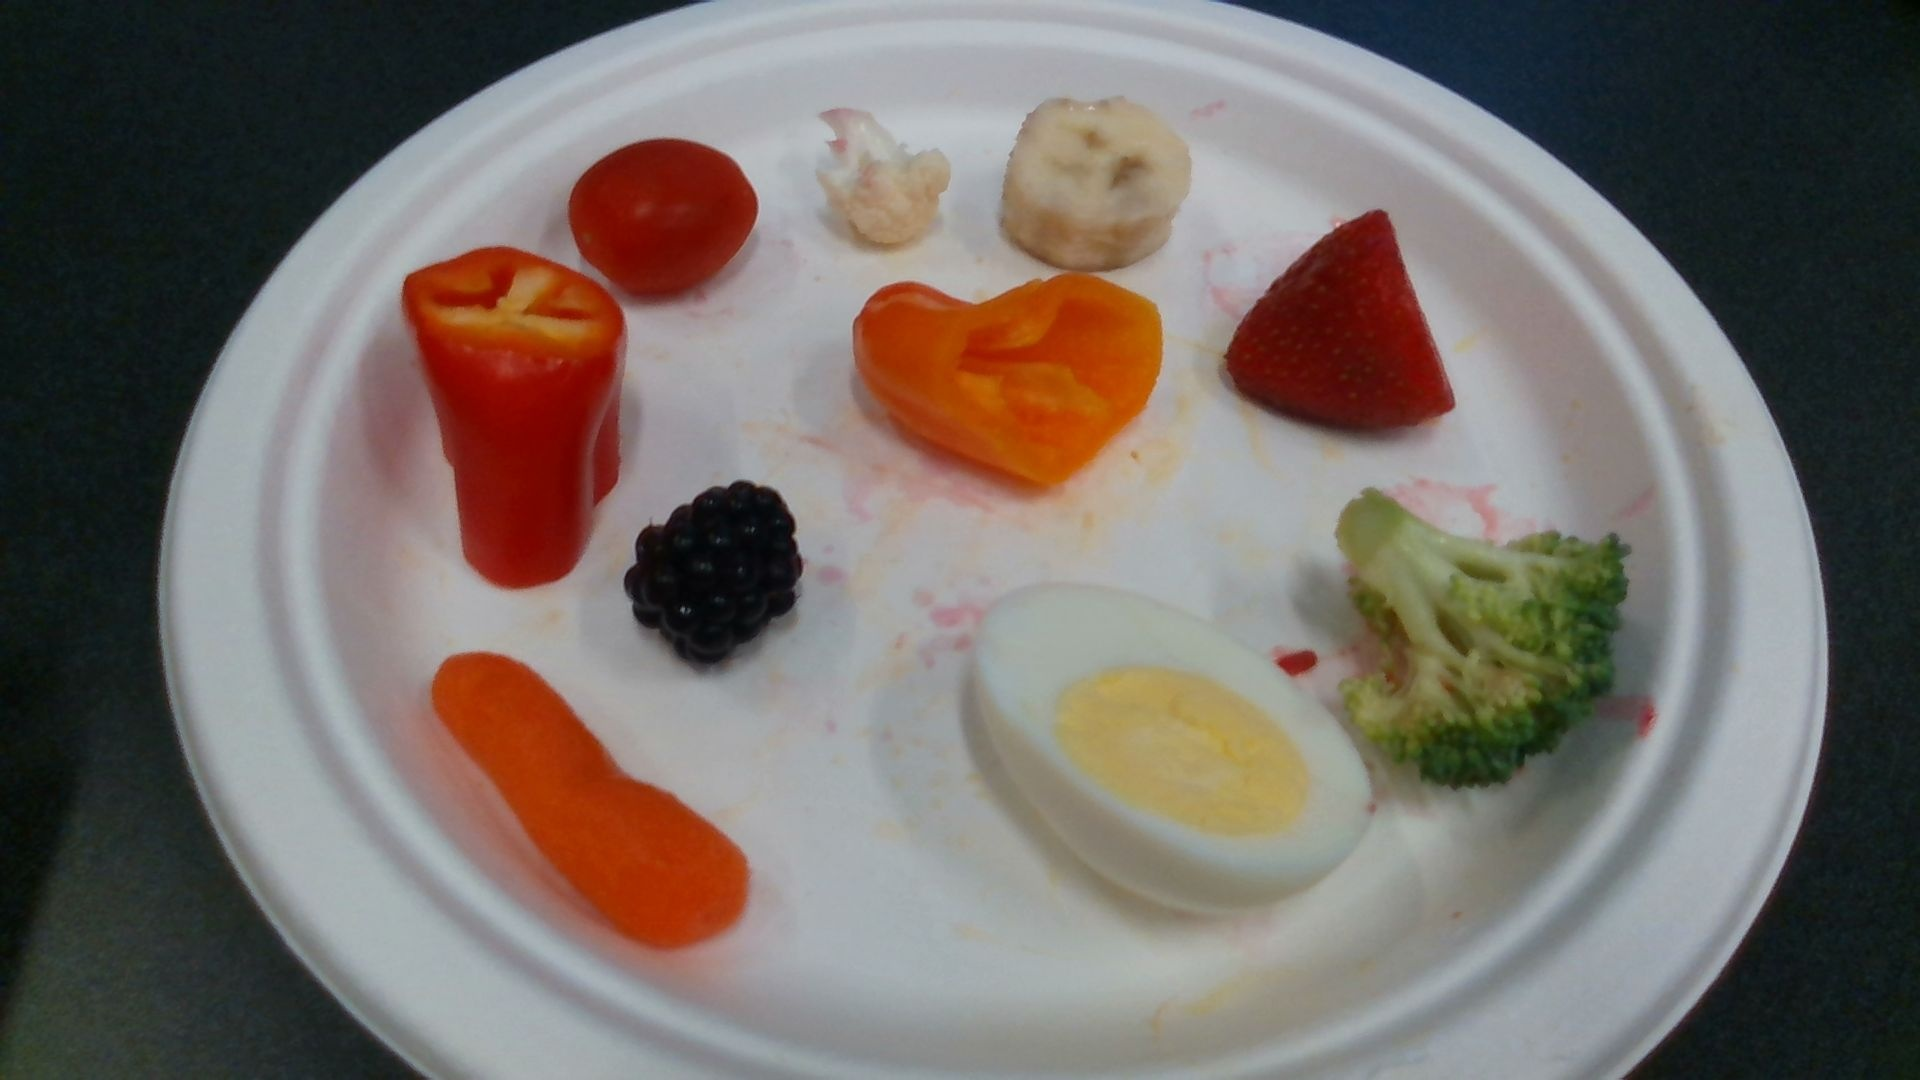banana: (1002, 102, 1192, 261)
bell_pepper: (402, 248, 626, 593), (855, 278, 1164, 488)
blackberry: (625, 485, 800, 663)
broccoli: (1338, 491, 1625, 773)
carrot: (434, 653, 750, 949)
cauliflower: (819, 109, 949, 247)
cherry_tomato: (572, 140, 757, 293)
egg: (972, 585, 1371, 915)
strawberry: (1225, 211, 1455, 423)
